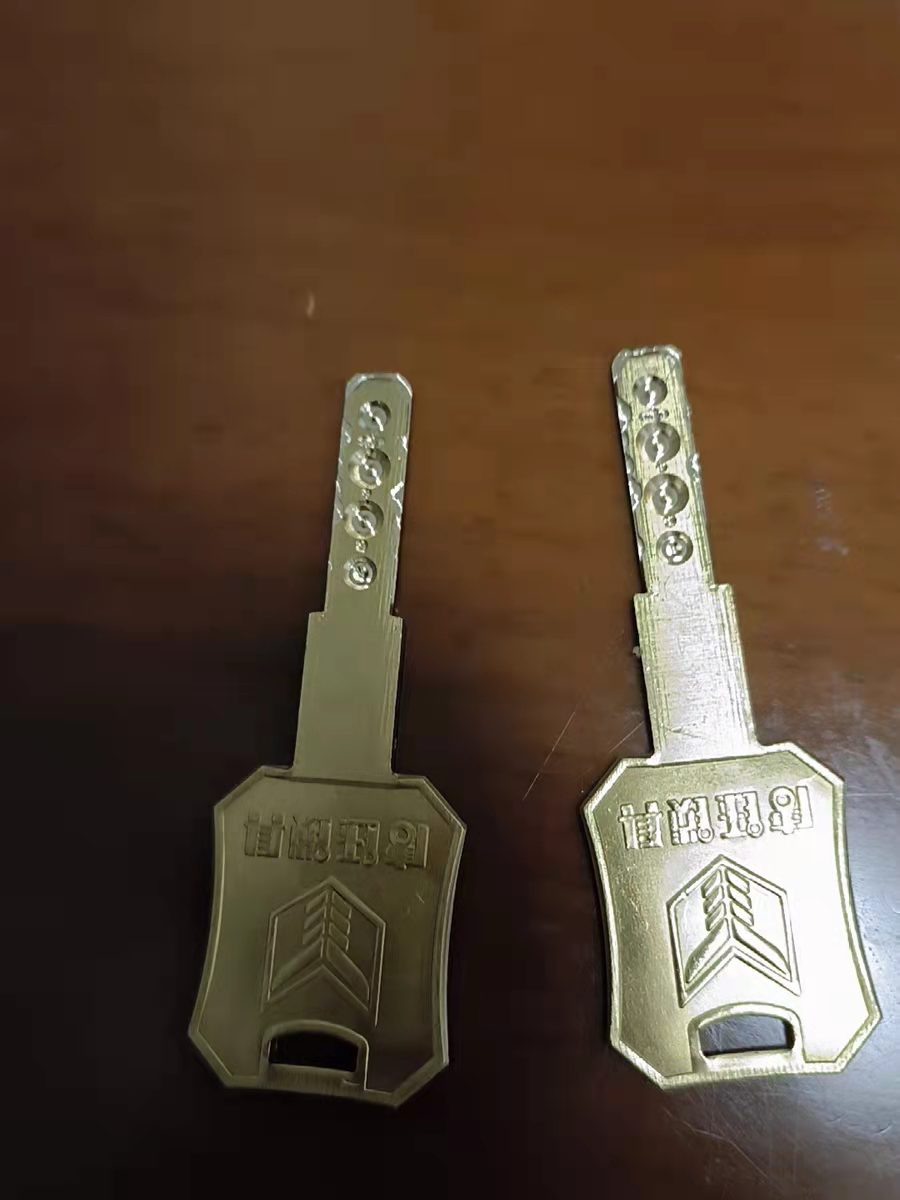key: (544, 346, 881, 1079), (187, 348, 488, 1112)
